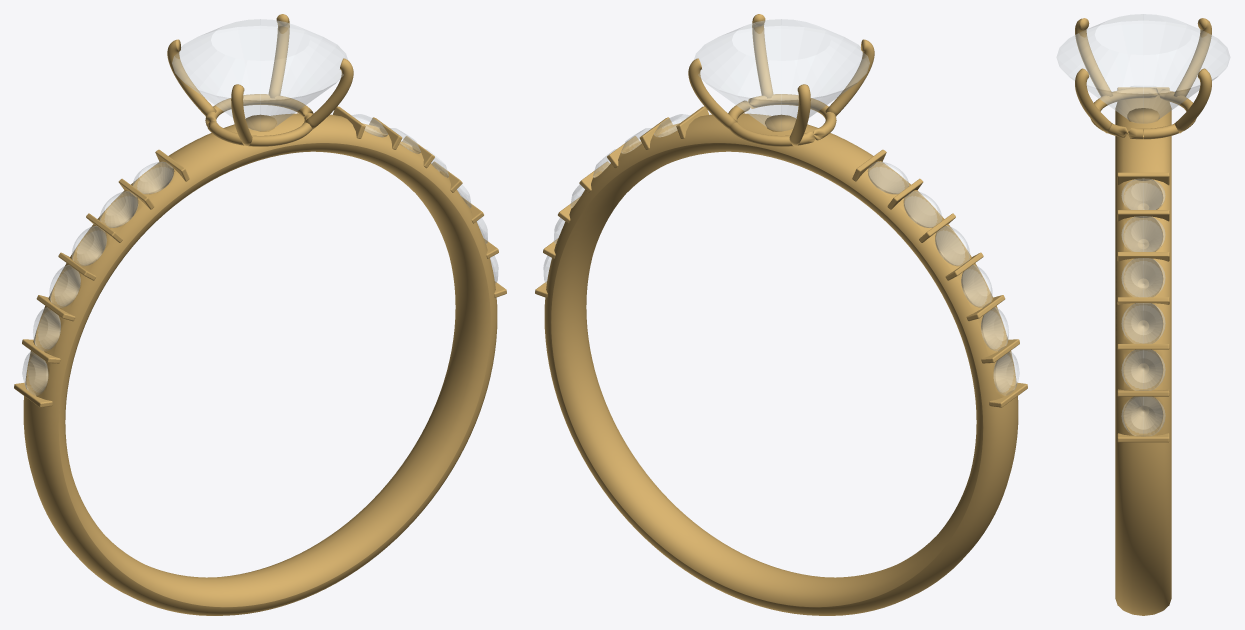
File: accents-bar.glb
3 renders of one model, left to right at view 1: azimuth 30°, elevation 25°; view 2: azimuth 150°, elevation 25°; view 3: azimuth 270°, elevation 25°, orthographic.
Parts seen in each view (by area): view 1: Band, Gem, Lower gallery, Prong.001, Prong, Gem.003, Gem.002, Gem.004, Prong.003, Gem.001, Gem.005, Gem.006 (+1 smaller); view 2: Band, Gem, Lower gallery, Prong.002, Prong.003, Gem.003, Gem.002, Gem.004, Prong, Gem.001, Gem.005, Gem.006 (+1 smaller); view 3: Band, Gem, Lower gallery, Gem.010, Gem.011, Gem.012, Gem.009, Gem.008, Gem.007, Prong.001, Prong.002, Prong (+9 smaller).
Part boxes in pixels (x1=…): Band: x1=23, y1=113, x2=497, y2=615; Gem: x1=172, y1=19, x2=347, y2=130; Lower gallery: x1=205, y1=94, x2=313, y2=146; Prong.001: x1=167, y1=39, x2=216, y2=116; Prong: x1=268, y1=14, x2=289, y2=98; Gem.003: x1=72, y1=226, x2=106, y2=265; Gem.002: x1=100, y1=191, x2=137, y2=227; Gem.004: x1=49, y1=265, x2=80, y2=307; Prong.003: x1=304, y1=58, x2=353, y2=129; Gem.001: x1=133, y1=162, x2=173, y2=193; Gem.005: x1=33, y1=307, x2=60, y2=350; Gem.006: x1=22, y1=351, x2=48, y2=395; Band: x1=544, y1=113, x2=1018, y2=615; Gem: x1=694, y1=19, x2=869, y2=130; Lower gallery: x1=728, y1=94, x2=836, y2=146; Prong.002: x1=825, y1=39, x2=874, y2=116; Prong.003: x1=752, y1=14, x2=773, y2=98; Gem.003: x1=935, y1=226, x2=969, y2=265; Gem.002: x1=904, y1=191, x2=941, y2=227; Gem.004: x1=961, y1=265, x2=992, y2=307; Prong: x1=688, y1=58, x2=737, y2=129; Gem.001: x1=868, y1=162, x2=908, y2=193; Gem.005: x1=981, y1=307, x2=1008, y2=350; Gem.006: x1=993, y1=351, x2=1019, y2=395; Band: x1=1115, y1=96, x2=1171, y2=615; Gem: x1=1056, y1=14, x2=1230, y2=123; Lower gallery: x1=1090, y1=87, x2=1196, y2=139; Gem.010: x1=1121, y1=303, x2=1165, y2=343; Gem.011: x1=1121, y1=350, x2=1165, y2=390; Gem.012: x1=1121, y1=396, x2=1165, y2=436; Gem.009: x1=1121, y1=258, x2=1165, y2=297; Gem.008: x1=1121, y1=216, x2=1165, y2=251; Gem.007: x1=1121, y1=178, x2=1165, y2=209; Prong.001: x1=1174, y1=18, x2=1211, y2=96; Prong.002: x1=1075, y1=18, x2=1112, y2=96; Prong: x1=1174, y1=68, x2=1211, y2=133.
Size of the model in its own units: 19.79 by 22.94 by 6.5.
